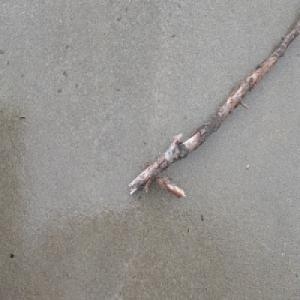Wood: (127, 18, 300, 199)
